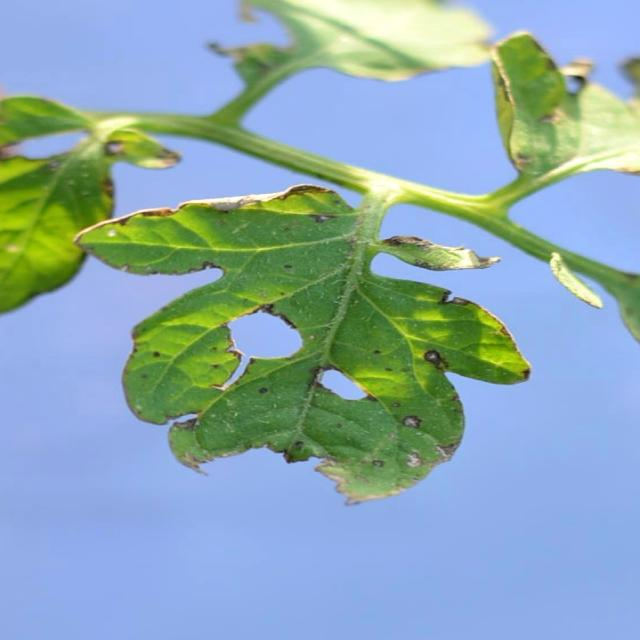infected: (116, 223, 531, 504), (490, 29, 640, 176), (3, 116, 186, 179)
